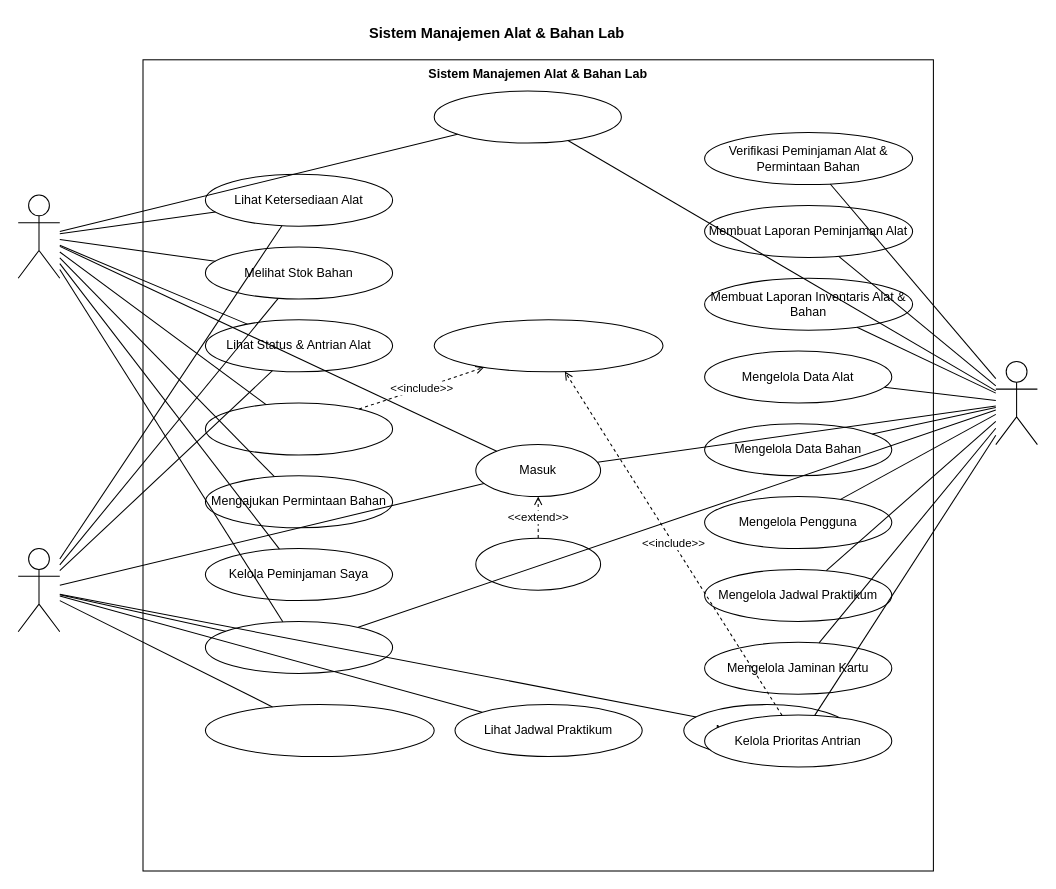
This 1056x889 diagram has some shape labels left out. The centre of each missing label's shape, as x and y in pixels:
Admin: (x=1016, y=402)
Guru: (x=38, y=590)
Kelola Antrian Algoritma Round Robin: (x=548, y=345)
Keluar: (x=538, y=563)
Lihat Notifikasi: (x=298, y=646)
Mengajukan Peminjaman Alat: (x=298, y=428)
Monitoring Penggunaan Alat & Bahan Siswa: (x=319, y=730)
Pengembalian Alat: (x=527, y=116)
Siswa: (x=38, y=236)
